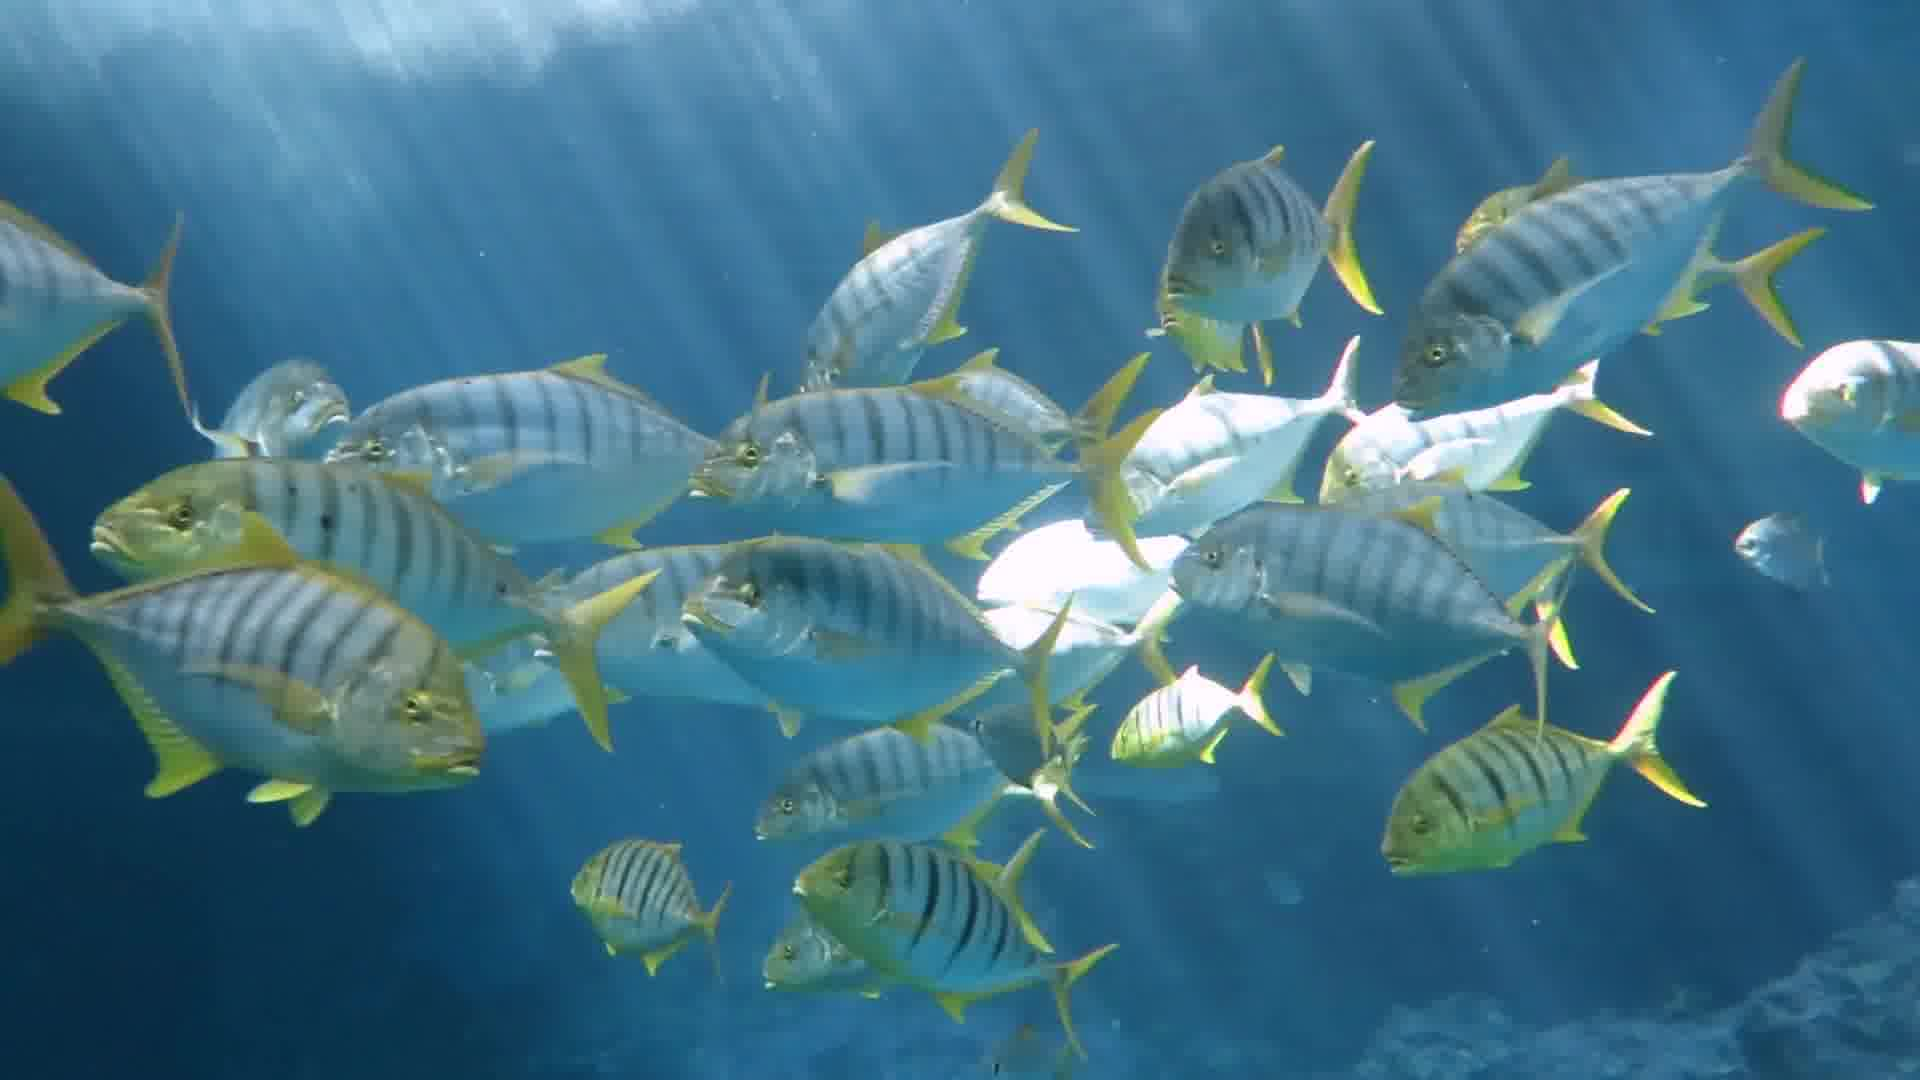Gnathanodon speciosus: (1393, 100, 1849, 423), (78, 459, 659, 704), (28, 535, 475, 828), (675, 547, 1073, 729), (665, 402, 1172, 541), (314, 407, 757, 545), (1389, 690, 1709, 874), (783, 843, 1102, 1015), (795, 152, 1033, 378), (723, 742, 1092, 851), (1168, 152, 1381, 326), (1746, 330, 1920, 488), (165, 353, 407, 458), (553, 841, 728, 982), (1105, 673, 1273, 769)
